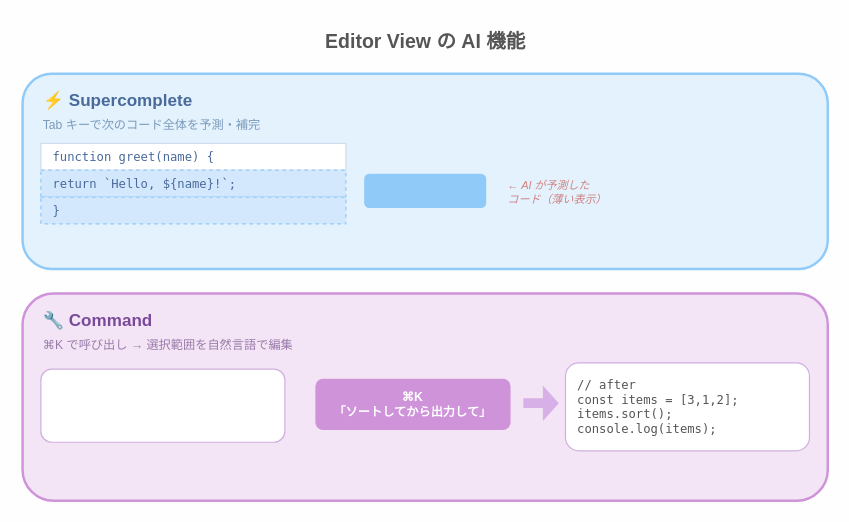
Some shapes in this 849 by 522 pixel diagram are drawn without their labels. Each missing label, with the box of its shape:
// before const items = [3,1,2]; console.log(items);: (40, 368, 285, 442)
Tab ⇥ で確定: (364, 173, 486, 207)
